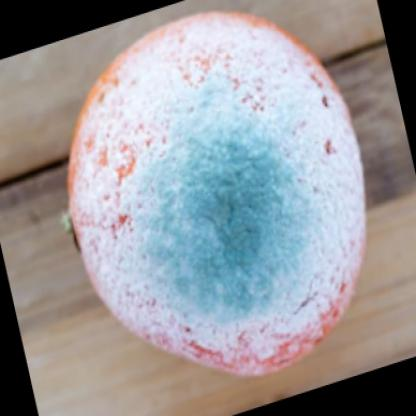rotten_orange: (57, 8, 370, 388)
